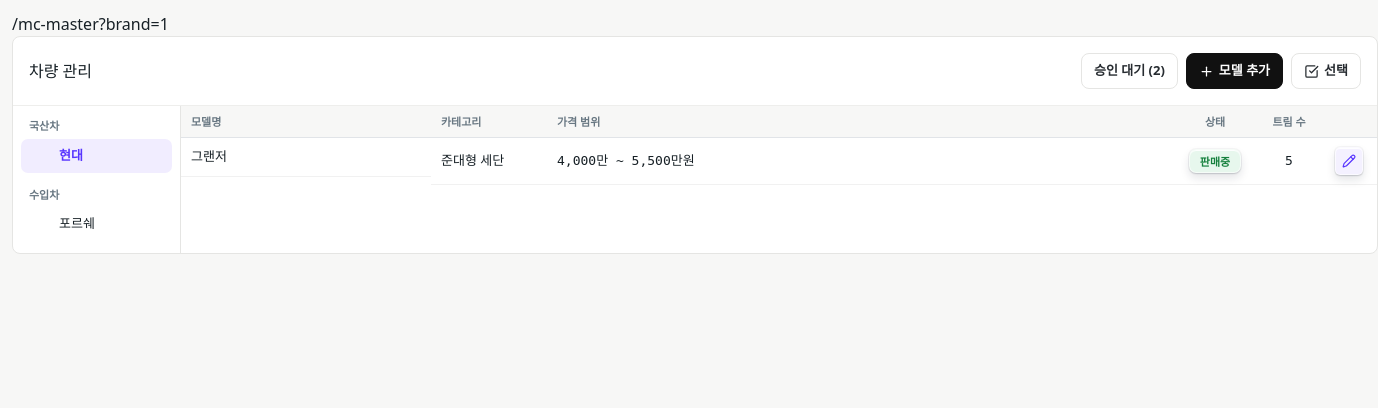
it: 전체 승인: 한 건이 실패해도 멈추지 않고 나머지를 승인한다
This screenshot has width=1378, height=408.
Expected: the text "그랜저" is shown, [191, 147, 227, 166]
Step 1. Click the button "승인 대기 (2)" → {"x": 1129, "y": 71}, box [1081, 53, 1178, 89]
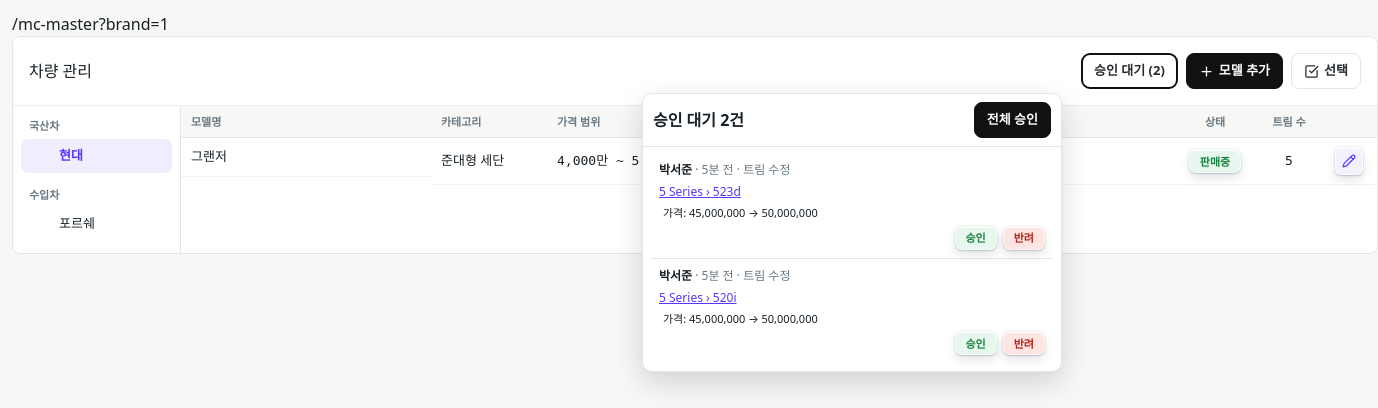
Result: the button "5 Series › 523d" is shown at [659, 183, 741, 201]
Step 2. Click the button "전체 승인" → {"x": 1012, "y": 120}, box [974, 102, 1051, 138]
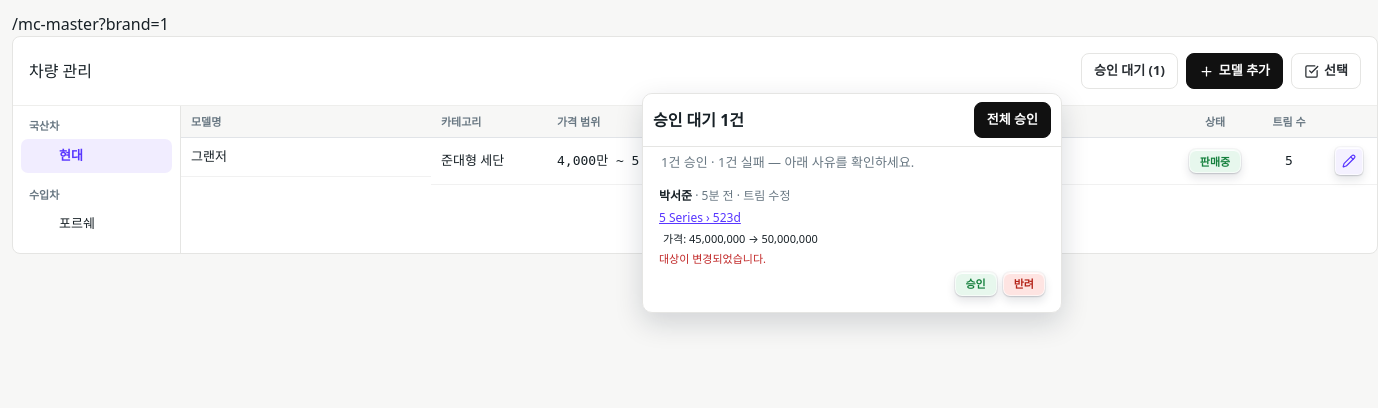
Result: the text "1건 승인 · 1건 실패 — 아래 사유를 확인하세요." is shown at [661, 153, 914, 171]
